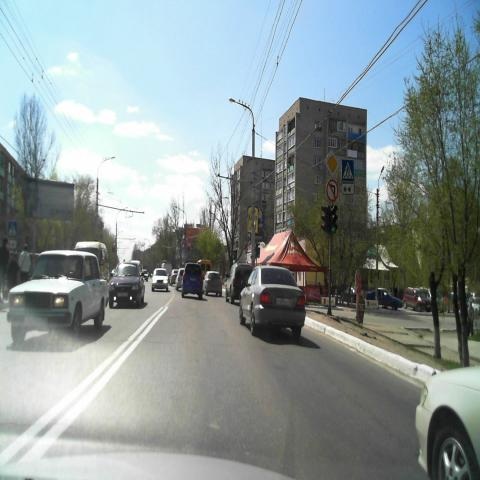3_18_2: (326, 178, 338, 202)
